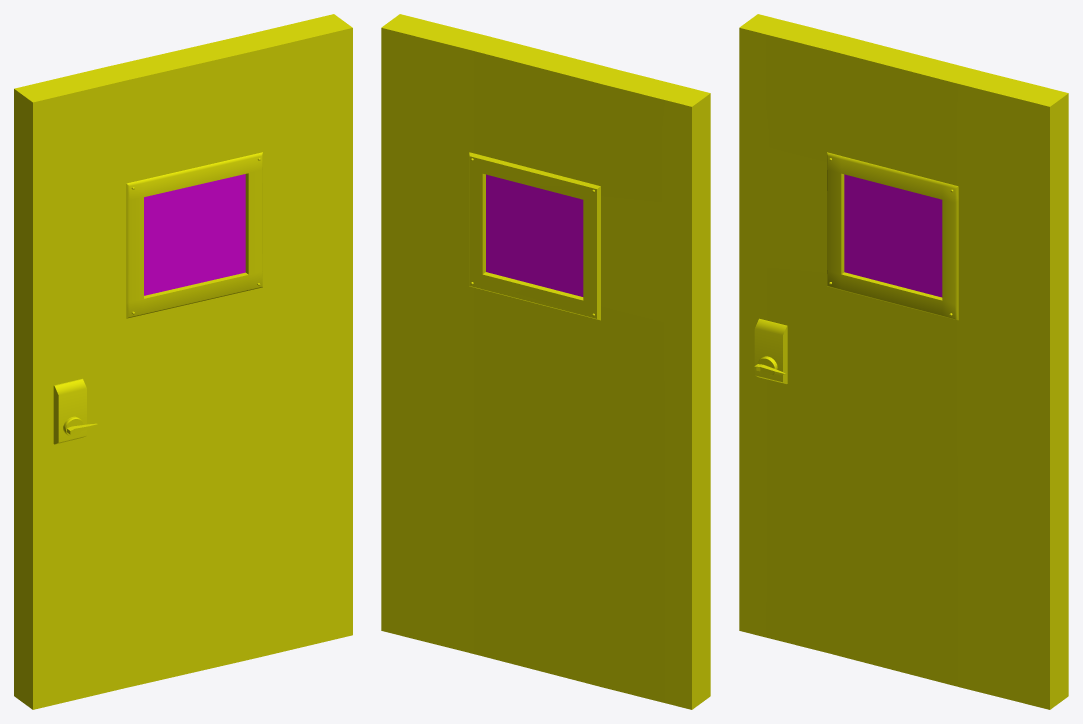
The model's file is SetoPaddedDoor.fbx.
3 renders of one model, left to right at view 1: azimuth 30°, elevation 25°; view 2: azimuth 150°, elevation 25°; view 3: azimuth 330°, elevation 25°, orthographic.
Parts seen in each view (by area): view 1: PaddedDoor; view 2: PaddedDoor; view 3: PaddedDoor.
Boxes of the visible parts, x1,y1,x2,y2 form: PaddedDoor: (14, 14, 352, 709); PaddedDoor: (381, 14, 710, 709); PaddedDoor: (739, 14, 1068, 709).
Size of the model in its own units: 125 by 229 by 22.85.
